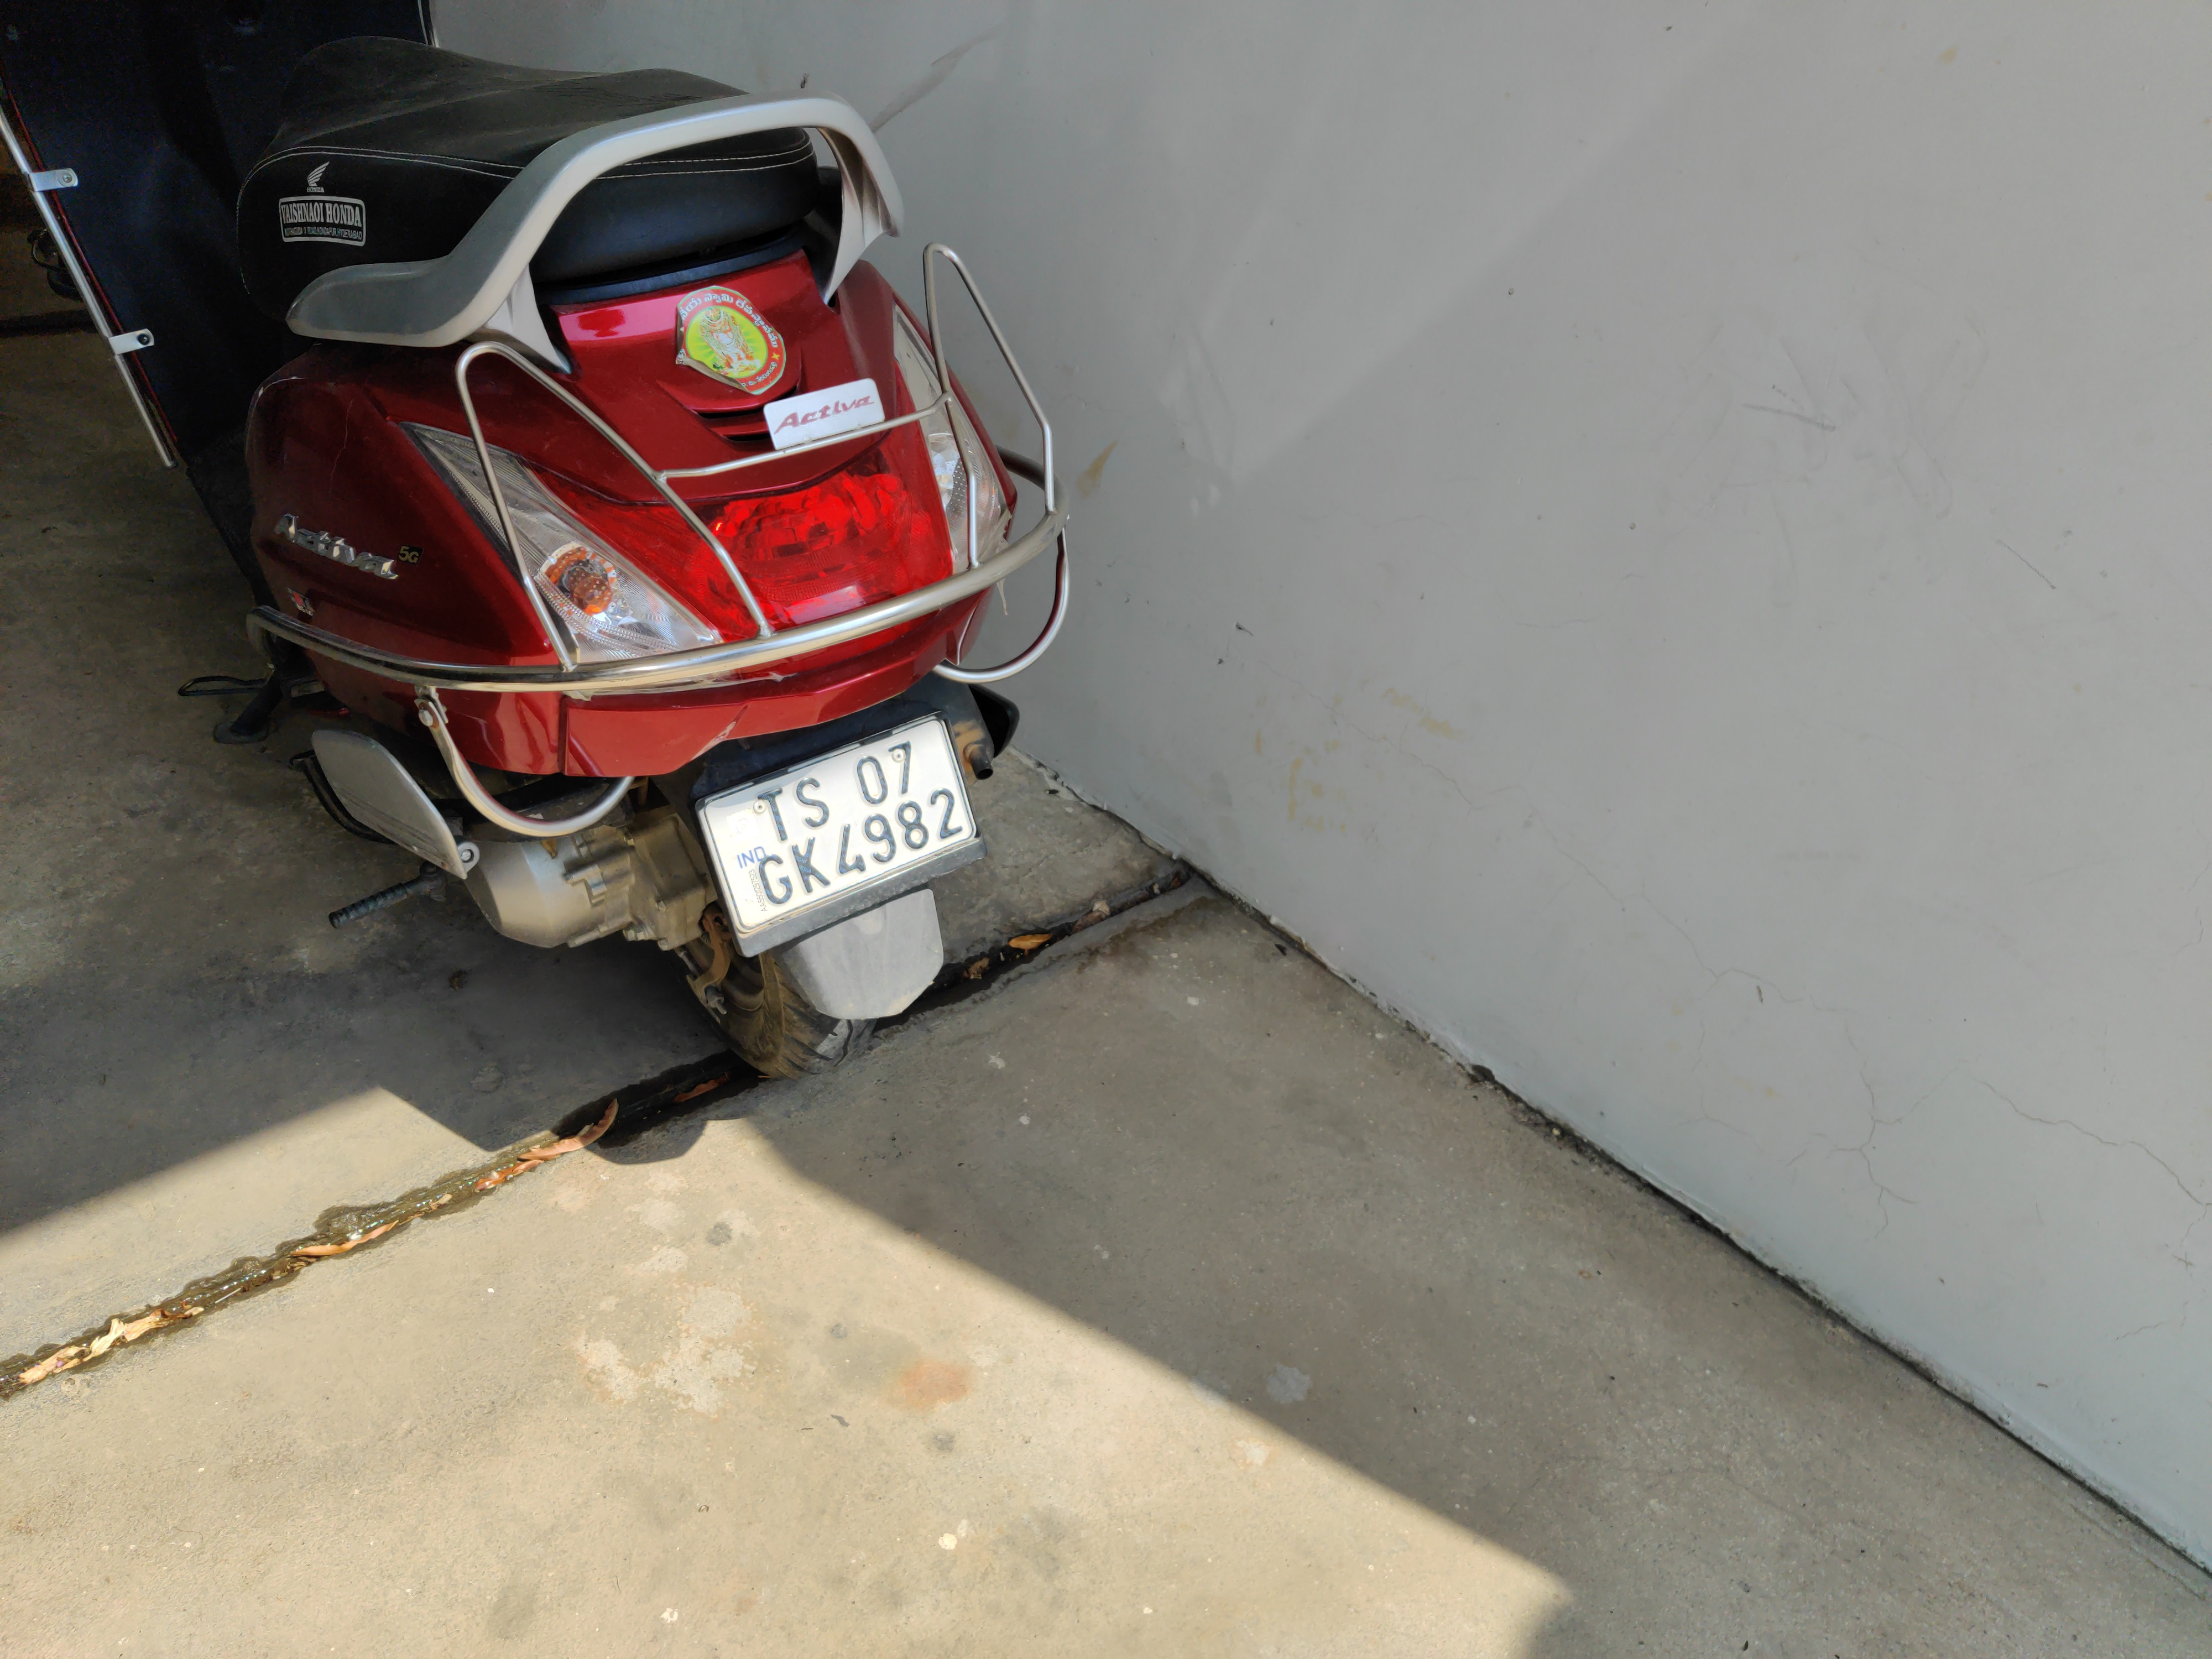plate: (683, 727, 998, 937)
